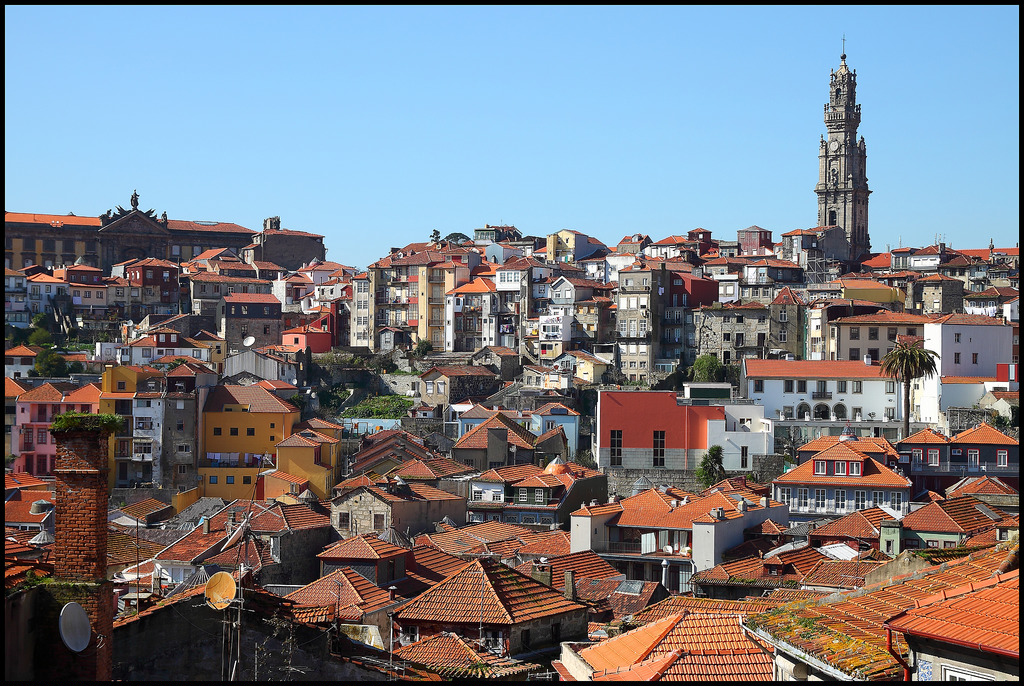clerigos: (811, 32, 870, 266)
